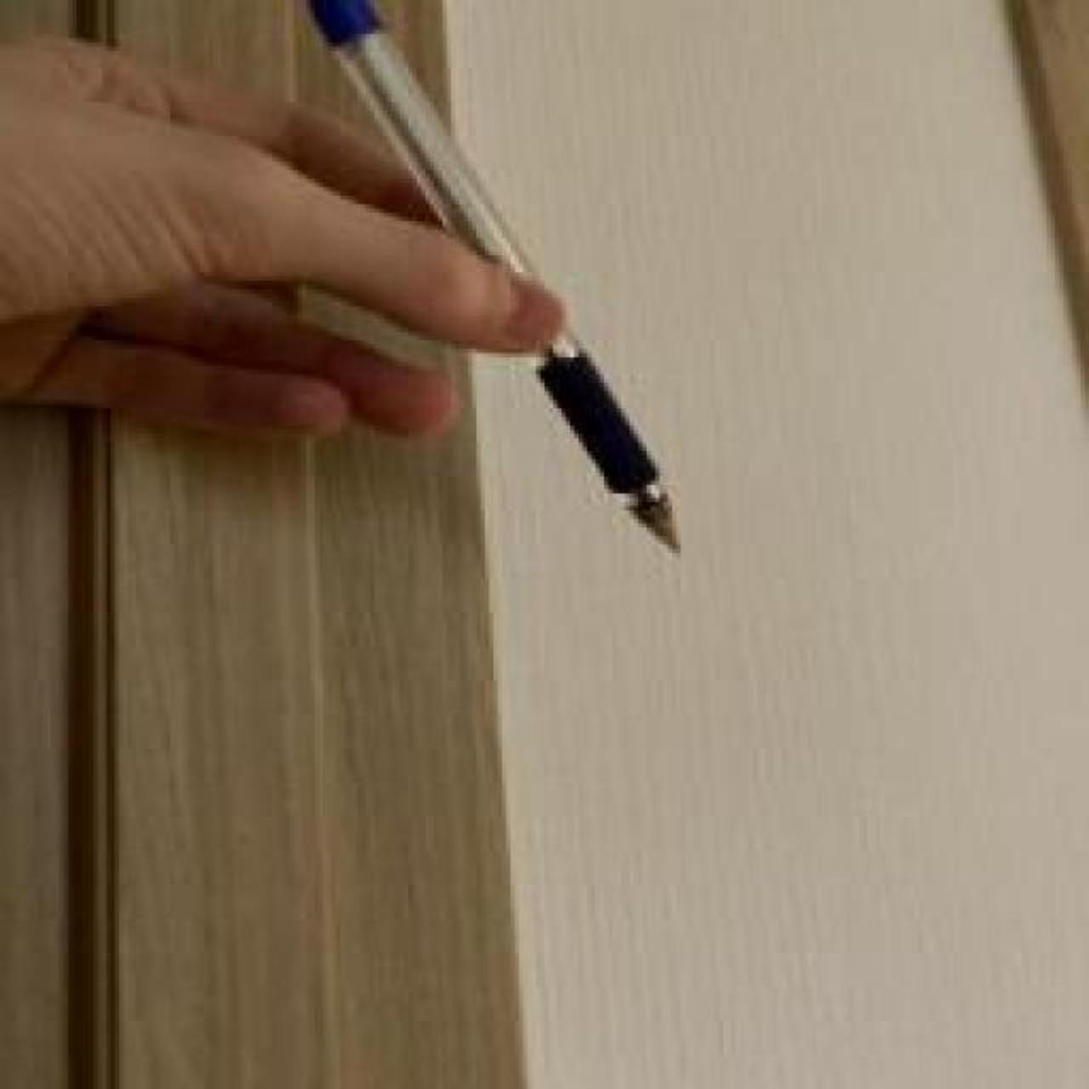pen: (306, 0, 689, 558)
